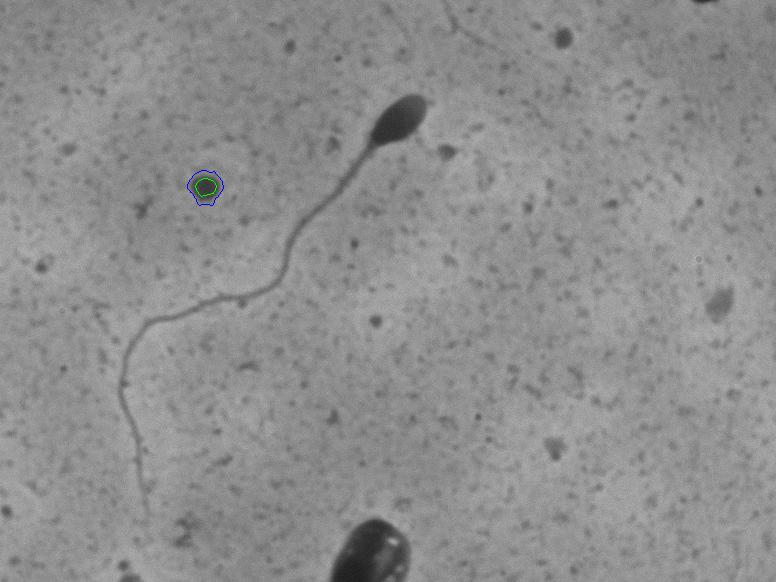Normal: (101, 79, 452, 537)
